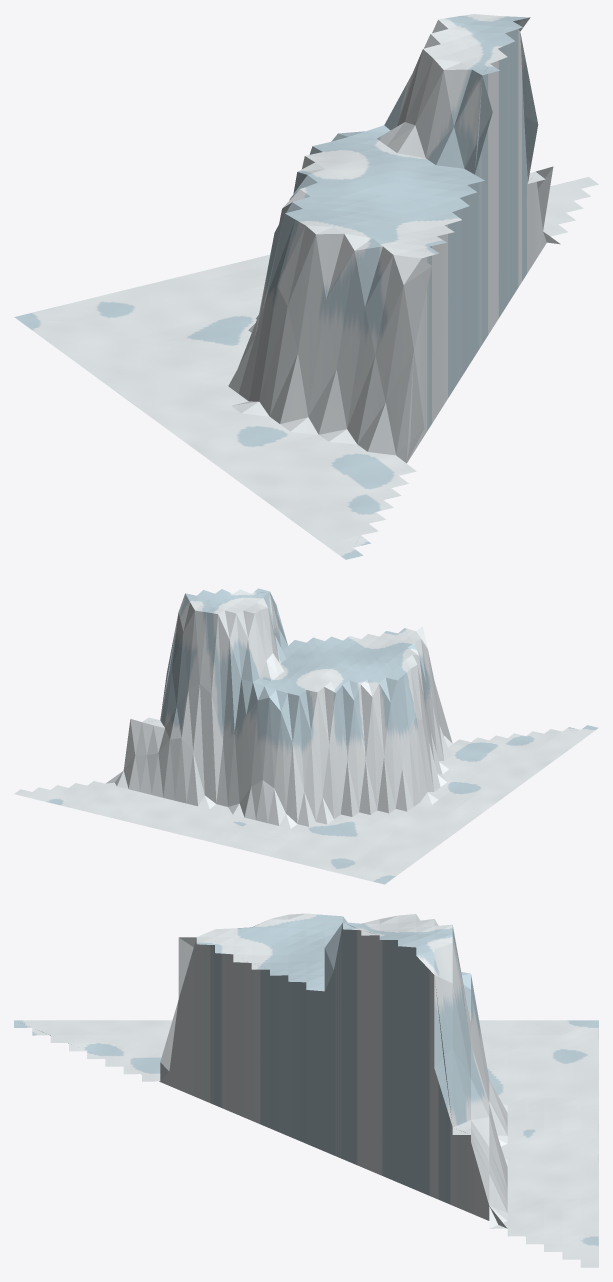
File: Snow_Mountains_12_SW.obj
The picture shows the model from 3 angles, top to bottom: view 1: azimuth 30°, elevation 25°; view 2: azimuth 150°, elevation 25°; view 3: azimuth 270°, elevation 25°; orthographic projection. The views are drawn at different scales.
Size of the model in its own units: 10 by 4.6 by 10.
Materials: 1 (1 with a texture image).
